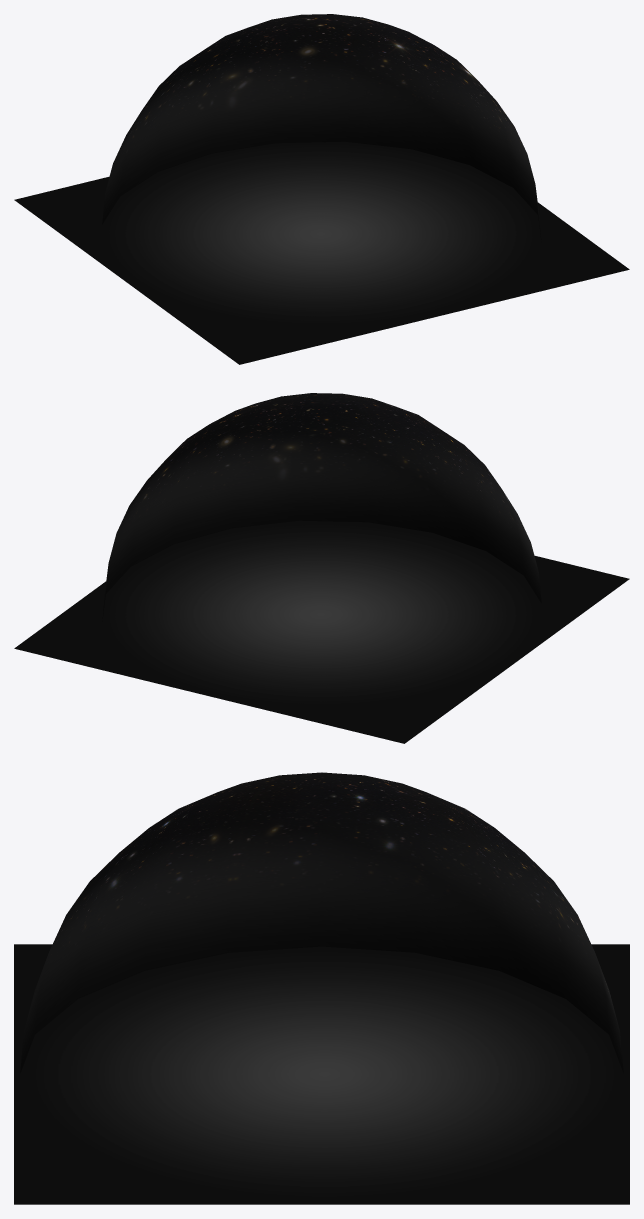
Rendered from MenuSkybox.fbx.
The picture shows the model from 3 angles, top to bottom: view 1: azimuth 30°, elevation 25°; view 2: azimuth 150°, elevation 25°; view 3: azimuth 270°, elevation 25°; orthographic projection. The views are drawn at different scales.
Parts seen in each view (by area): view 1: polySurface570; view 2: polySurface570; view 3: polySurface570.
Boxes of the visible parts, left/top/right/bottom form: polySurface570: left=14, top=14, right=629, bottom=364; polySurface570: left=14, top=393, right=629, bottom=743; polySurface570: left=14, top=772, right=629, bottom=1204.
Bounding box in the file's own units: 10.07 × 4.94 × 10.07.
